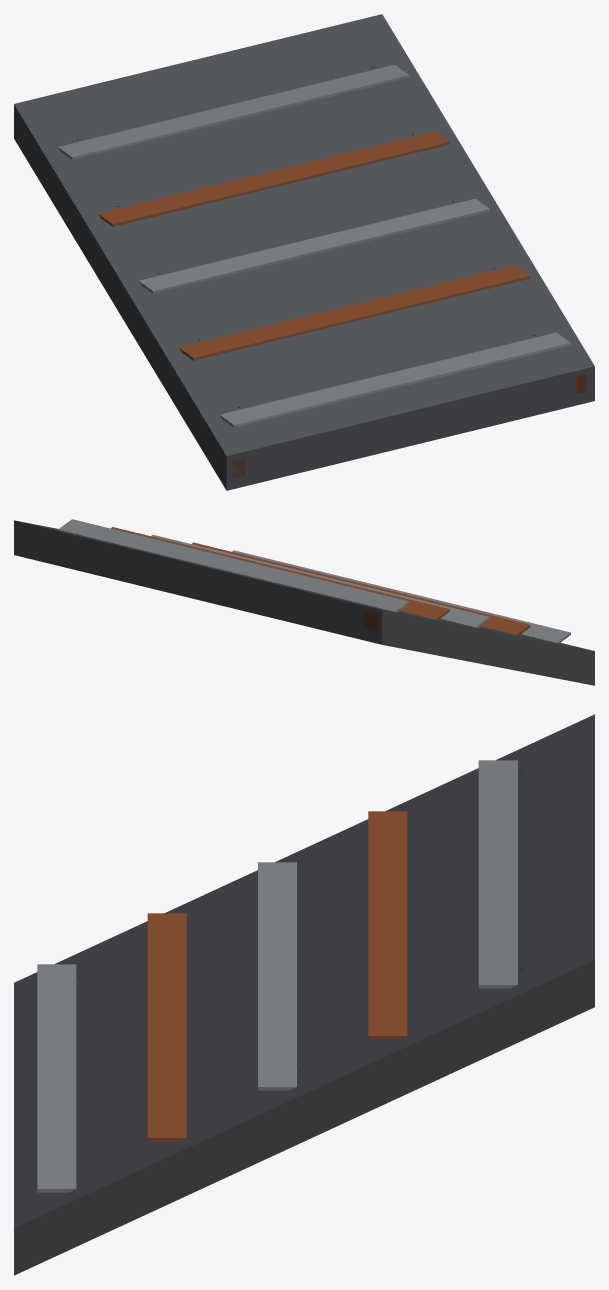
The model's file is piece_roof_slope.fbx.
The picture shows the model from 3 angles, top to bottom: view 1: azimuth 30°, elevation 25°; view 2: azimuth 150°, elevation 25°; view 3: azimuth 270°, elevation 25°; orthographic projection. The views are drawn at different scales.
Visible parts, largest first — view 1: piece_roof_slope; view 2: piece_roof_slope; view 3: piece_roof_slope.
Boxes of the visible parts, x1,y1,x2,y2 form: piece_roof_slope: (14,14,594,490); piece_roof_slope: (14,519,594,685); piece_roof_slope: (14,714,594,1275).
Bounding box in the file's own units: 2 × 1.2 × 2.
